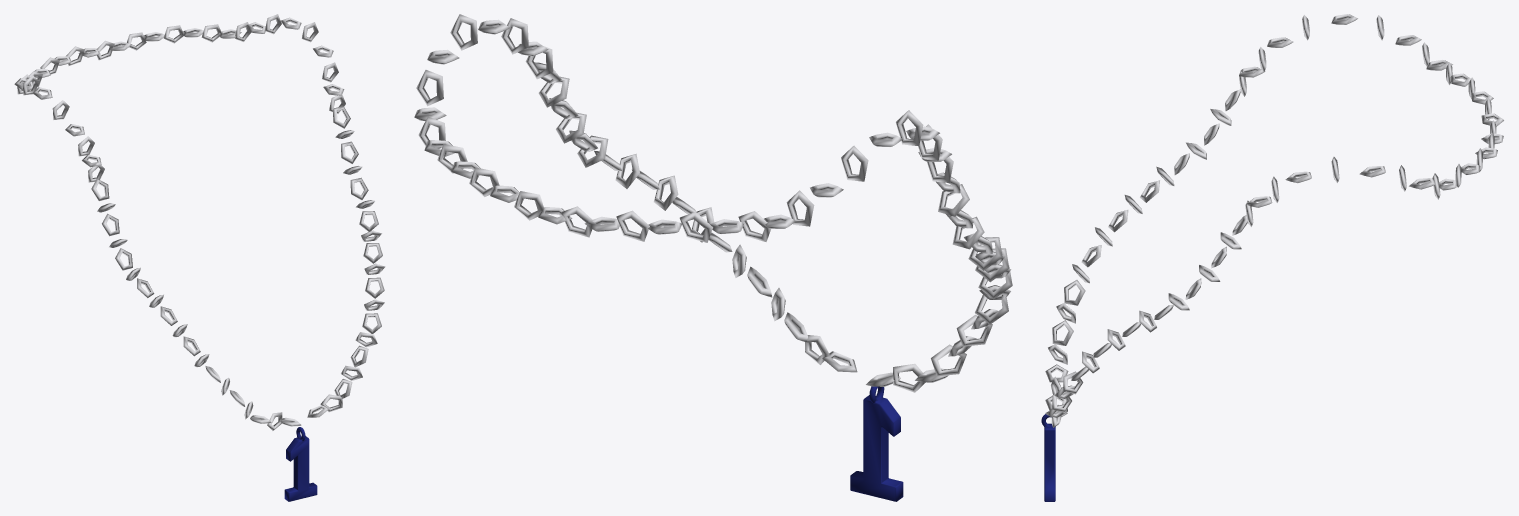
Rendered from acc_chain_number.glb.
3 renders of one model, left to right at view 1: azimuth 30°, elevation 25°; view 2: azimuth 150°, elevation 25°; view 3: azimuth 270°, elevation 25°, orthographic. The views are drawn at different scales.
Parts seen in each view (by area): view 1: acc_chain_number_0_metal, acc_chain_number_1_secondary; view 2: acc_chain_number_0_metal, acc_chain_number_1_secondary; view 3: acc_chain_number_0_metal, acc_chain_number_1_secondary.
Boxes of the visible parts, x1=… form: acc_chain_number_0_metal: x1=14, y1=14, x2=385, y2=430; acc_chain_number_1_secondary: x1=284, y1=427, x2=317, y2=501; acc_chain_number_0_metal: x1=414, y1=14, x2=1012, y2=392; acc_chain_number_1_secondary: x1=850, y1=386, x2=903, y2=501; acc_chain_number_0_metal: x1=1045, y1=14, x2=1503, y2=427; acc_chain_number_1_secondary: x1=1041, y1=414, x2=1055, y2=501.
Size of the model in its own units: 0.1856 by 0.2231 by 0.228.
